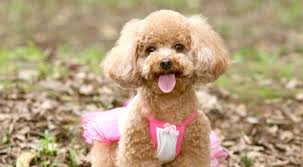dog: (103, 8, 235, 99)
